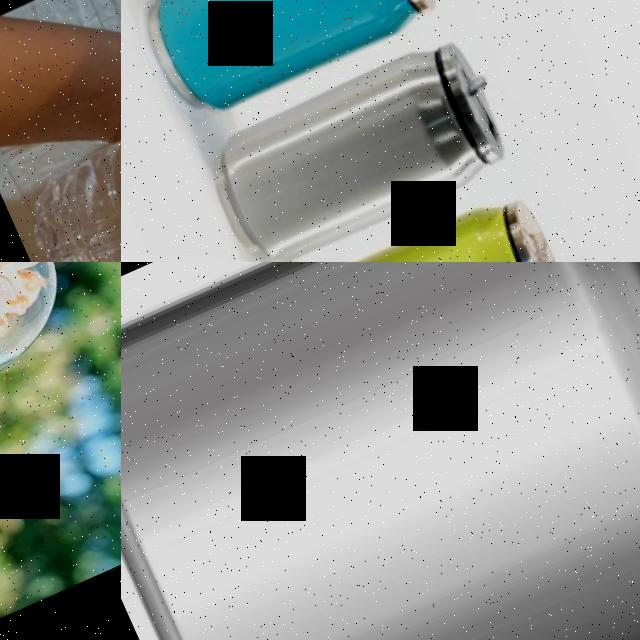bottle: (3, 0, 121, 262)
can: (121, 262, 640, 640), (195, 34, 514, 262), (127, 0, 448, 126), (267, 185, 580, 262)
cup: (0, 262, 92, 545)
